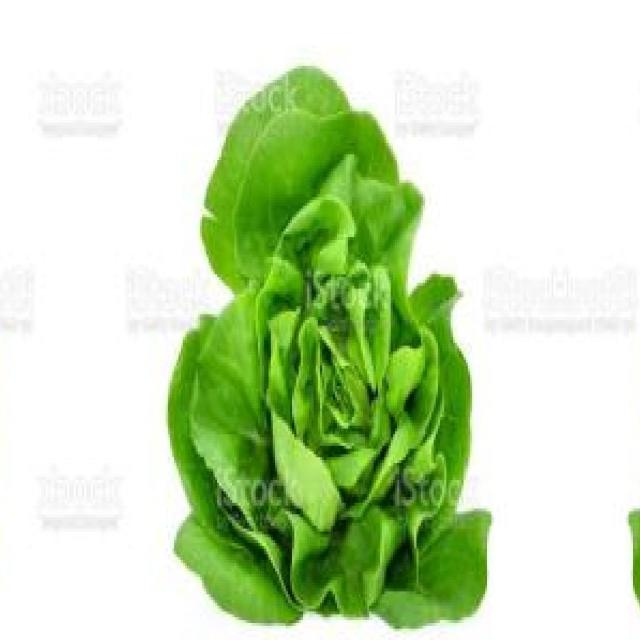healthy: (162, 55, 496, 630), (623, 55, 640, 630)
